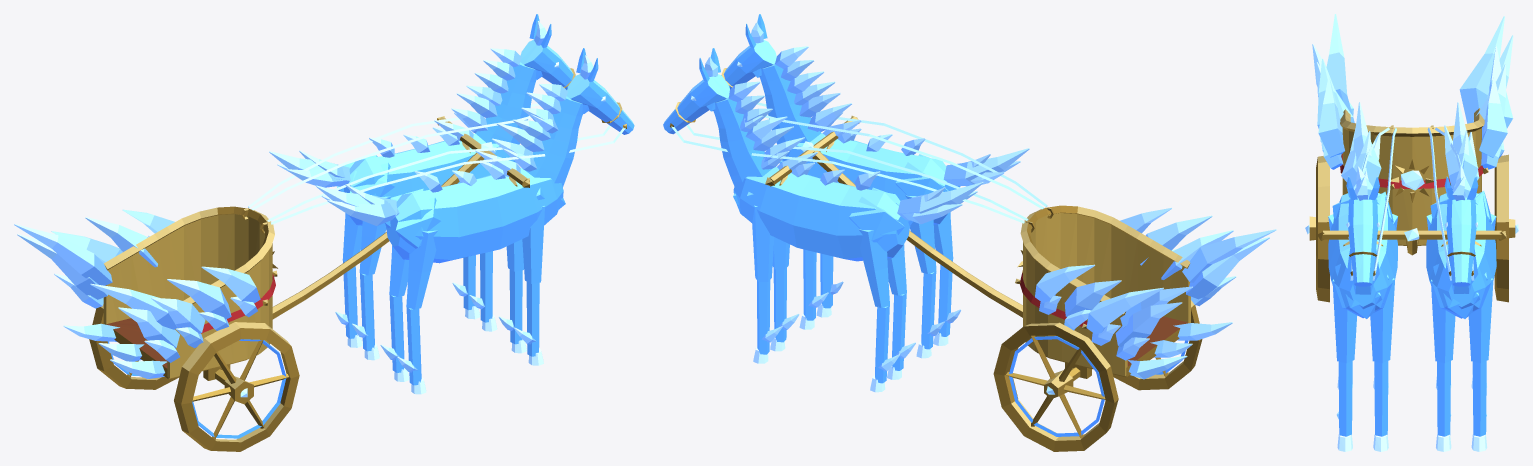
The model's file is mt_chariot_blue.glb.
3 renders of one model, left to right at view 1: azimuth 30°, elevation 25°; view 2: azimuth 150°, elevation 25°; view 3: azimuth 270°, elevation 25°, orthographic. The views are drawn at different scales.
Parts seen in each view (by area): view 1: base, flame_m, wheelR_m, head1_m, head0_m, leg7_m, leg5_m, leg3_m, leg6_m, leg2_m, leg4_m, wheelL_m (+2 smaller); view 2: base, flame_m, wheelL_m, head0_m, head1_m, leg2_m, leg0_m, leg6_m, leg3_m, leg7_m, leg1_m, wheelR_m (+2 smaller); view 3: base, flame_m, head1_m, head0_m, leg4_m, leg0_m, leg5_m, leg1_m, wheelL_m, wheelR_m.
Part boxes in pixels (<box>): base: <box>103,103,625,384</box>; flame_m: <box>14,21,593,378</box>; wheelR_m: <box>174,322,299,451</box>; head1_m: <box>525,48,634,187</box>; head0_m: <box>475,14,575,144</box>; leg7_m: <box>397,230,437,394</box>; leg5_m: <box>514,206,544,365</box>; leg3_m: <box>352,196,390,360</box>; leg6_m: <box>380,246,409,381</box>; leg2_m: <box>335,213,362,347</box>; leg4_m: <box>498,239,526,353</box>; wheelL_m: <box>89,304,179,389</box>; base: <box>671,102,1190,381</box>; flame_m: <box>704,22,1276,379</box>; wheelL_m: <box>993,322,1118,451</box>; head0_m: <box>663,48,772,186</box>; head1_m: <box>721,14,821,144</box>; leg2_m: <box>858,229,899,392</box>; leg0_m: <box>752,205,782,363</box>; leg6_m: <box>905,195,944,358</box>; leg3_m: <box>887,244,915,379</box>; leg7_m: <box>933,212,961,345</box>; leg1_m: <box>770,237,799,351</box>; wheelR_m: <box>1113,300,1202,390</box>; base: <box>1317,108,1506,318</box>; flame_m: <box>1312,14,1513,239</box>; head1_m: <box>1346,176,1379,294</box>; head0_m: <box>1444,176,1478,293</box>; leg4_m: <box>1370,278,1394,451</box>; leg0_m: <box>1468,278,1493,451</box>; leg5_m: <box>1332,279,1357,451</box>; leg1_m: <box>1431,279,1455,451</box>; wheelL_m: <box>1494,154,1518,302</box>; wheelR_m: <box>1305,156,1329,302</box>.
Bounding box in the file's own units: 1.51 × 0.7655 × 0.4781.
